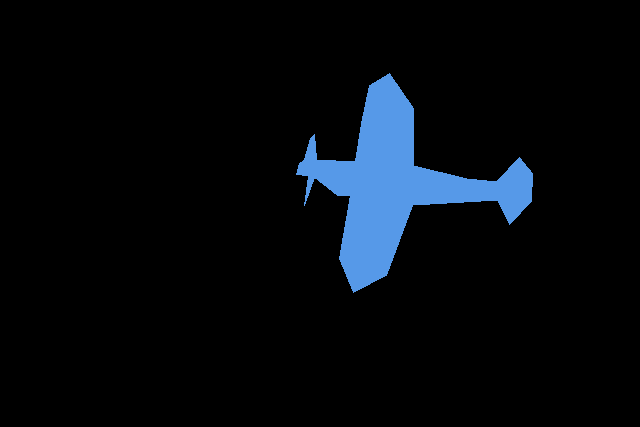Airplane: (296, 73, 533, 292)
